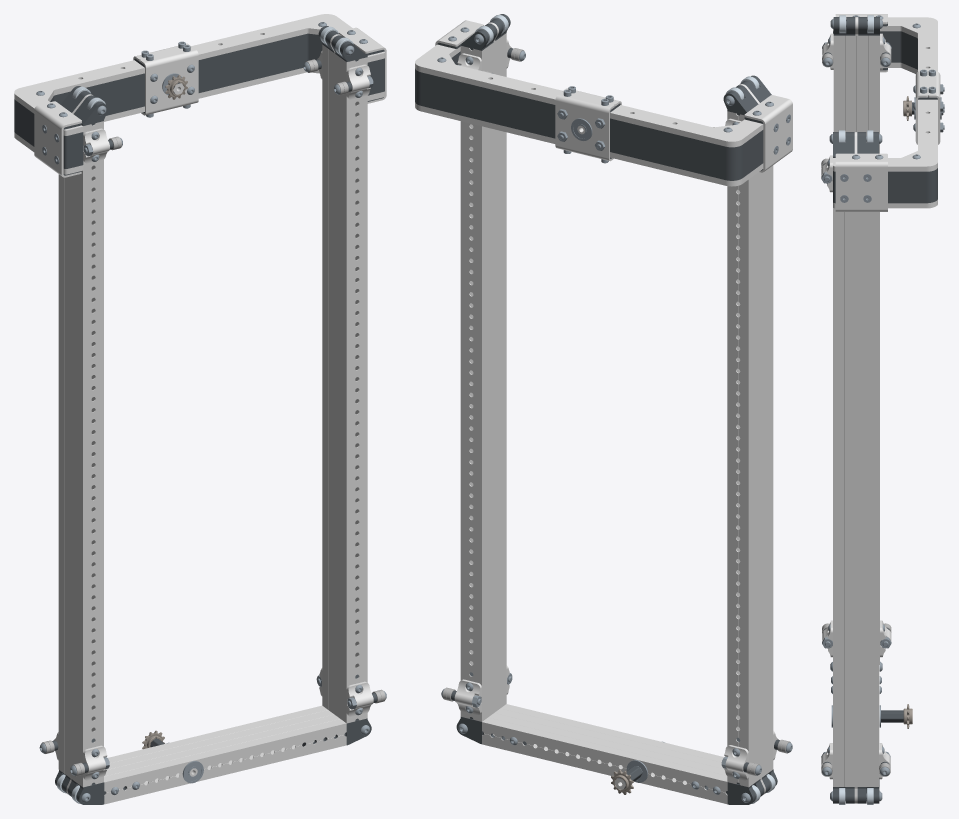
3 views of the same model, side by side, from view 1: azimuth 30°, elevation 25°; view 2: azimuth 150°, elevation 25°; view 3: azimuth 270°, elevation 25° (orthographic). The views are drawn at different scales.
Parts seen in each view (by area): view 1: 1x2x30" Side (2nd) (×2), 1x2x11.5" Bottom (2nd), CrossBar Plate (×2), 3DP Infill Crossbar MIDDLE (2nd), 3DP Infill Crossbar RIGHT(2nd), Part 42 (×2), Part 45, 3DP Infill Crossbar LEFT (2nd); view 2: 1x2x30" Side (2nd) (×2), 1x2x11.5" Bottom (2nd), CrossBar Plate (×2), 3DP Infill Crossbar LEFT (2nd), 3DP Infill Crossbar RIGHT(2nd), 3DP Infill Crossbar MIDDLE (2nd), Part 45, Part 42; view 3: 1x2x30" Side (2nd) (×2), CrossBar Plate (×2), Part 42, 3DP Infill Crossbar RIGHT(2nd), 3DP Infill Crossbar LEFT (2nd), Part 45 (×2), Top Bearing Block (Right) (×2), Top Bearing Block (Left) (×2), Inner Bearing Block (R), Part 12, Inner Bearing Block (L).
Boxes of the visible parts, box(x1,y1,x2,y2) form: 1x2x30" Side (2nd) (×2): box(58, 44, 367, 787); 1x2x11.5" Bottom (2nd): box(104, 705, 346, 804); CrossBar Plate (×2): box(14, 14, 384, 174); 3DP Infill Crossbar MIDDLE (2nd): box(107, 48, 246, 115); 3DP Infill Crossbar RIGHT(2nd): box(246, 33, 384, 95); Part 42 (×2): box(34, 27, 386, 177); Part 45: box(140, 47, 198, 115); 3DP Infill Crossbar LEFT (2nd): box(14, 82, 107, 168); 1x2x30" Side (2nd) (×2): box(460, 33, 773, 787); 1x2x11.5" Bottom (2nd): box(482, 704, 727, 804); CrossBar Plate (×2): box(415, 44, 763, 186); 3DP Infill Crossbar LEFT (2nd): box(648, 128, 763, 180); 3DP Infill Crossbar RIGHT(2nd): box(415, 51, 506, 126); 3DP Infill Crossbar MIDDLE (2nd): box(506, 93, 648, 160); Part 45: box(555, 92, 614, 161); Part 42: box(744, 95, 792, 172); 1x2x30" Side (2nd) (×2): box(833, 35, 879, 786); CrossBar Plate (×2): box(833, 17, 937, 208); Part 42: box(835, 153, 887, 211); 3DP Infill Crossbar RIGHT(2nd): box(833, 168, 937, 203); 3DP Infill Crossbar LEFT (2nd): box(833, 31, 917, 69); Part 45 (×2): box(915, 71, 940, 144); Top Bearing Block (Right) (×2): box(833, 17, 878, 153); Top Bearing Block (Left) (×2): box(833, 17, 879, 157); Inner Bearing Block (R): box(857, 779, 879, 803); Part 12: box(881, 710, 903, 722); Inner Bearing Block (L): box(833, 787, 854, 803).
Size of the model in its own units: 0.3932 by 0.8103 by 0.1356.
